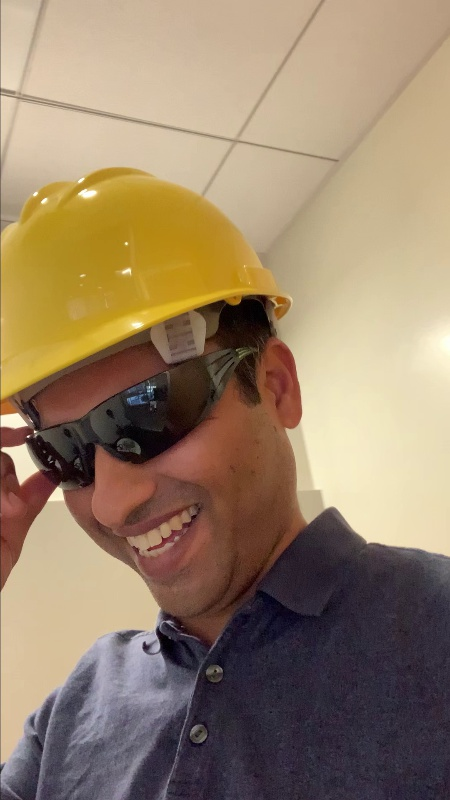glasses: (1, 331, 270, 506)
helmet: (1, 167, 292, 354)
